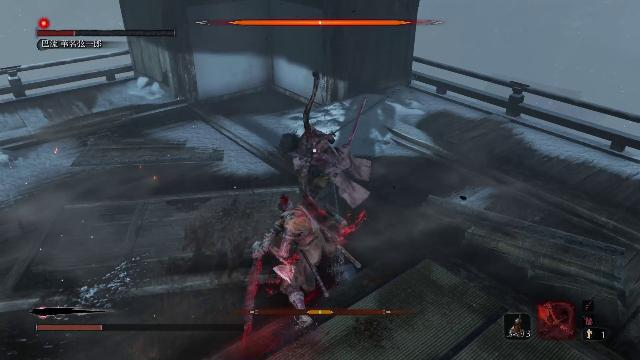sk: (256, 190, 343, 337)
